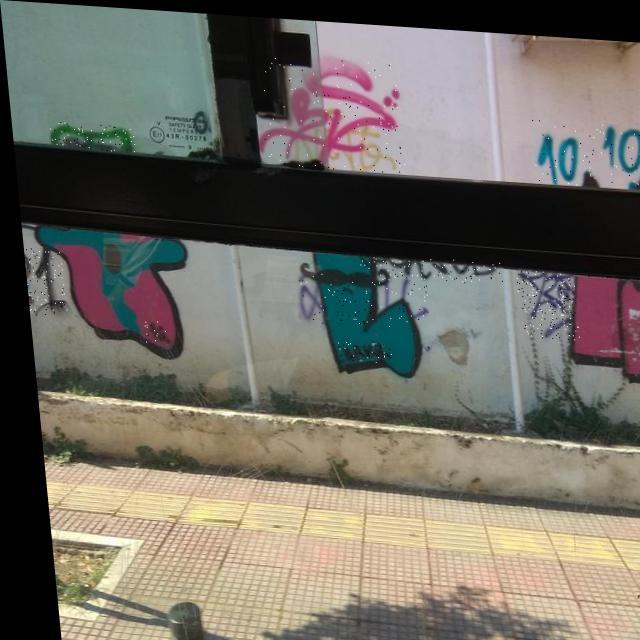-: (251, 51, 404, 166), (529, 112, 640, 182), (286, 100, 400, 168), (291, 268, 426, 325), (354, 248, 501, 280), (511, 262, 574, 333), (19, 248, 62, 317), (47, 121, 133, 151), (331, 335, 387, 359), (138, 319, 168, 342)
